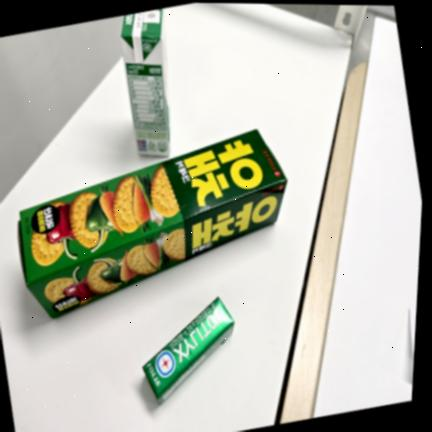cracker_vege: (18, 129, 287, 317)
gum_green: (143, 297, 234, 404)
milk_green: (120, 9, 171, 156)
